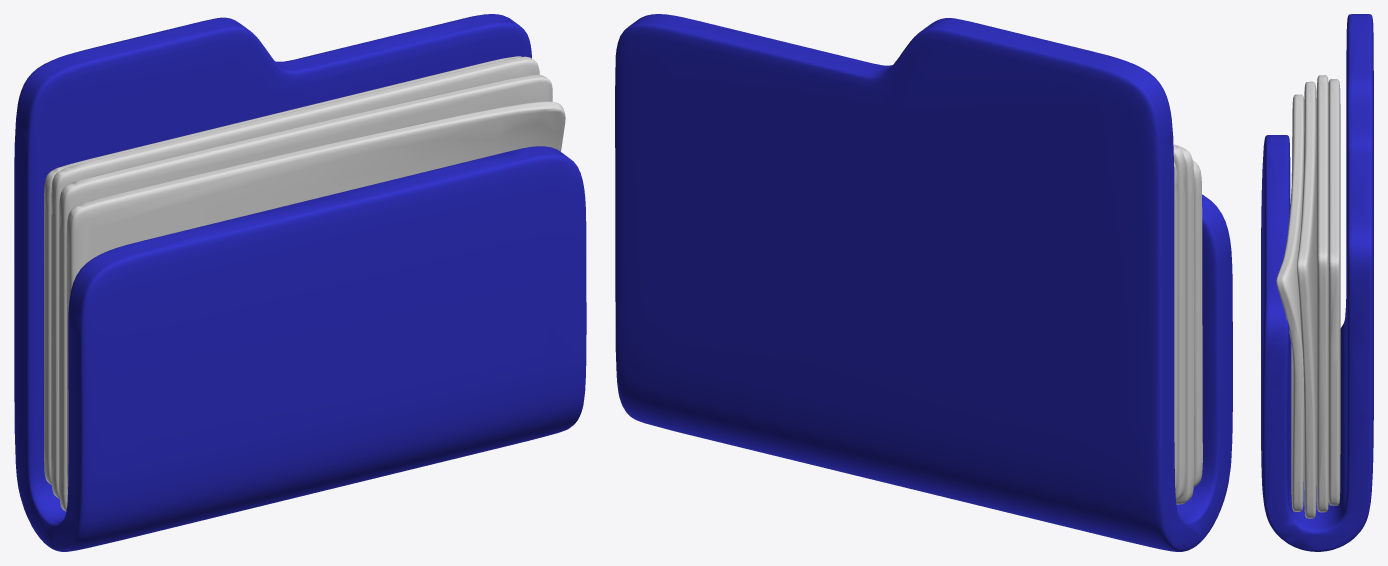
The model's file is folder.glb.
3 renders of one model, left to right at view 1: azimuth 30°, elevation 25°; view 2: azimuth 150°, elevation 25°; view 3: azimuth 270°, elevation 25°, orthographic. The views are drawn at different scales.
Parts seen in each view (by area): view 1: Folder; view 2: Folder; view 3: Folder.
Boxes of the visible parts, x1,y1,x2,y2 form: Folder: (14,14,586,551); Folder: (615,14,1232,551); Folder: (1261,14,1373,551).
Bounding box in the file's own units: 1.9 × 1.65 × 0.4666.
